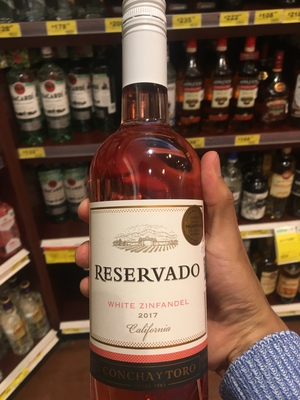reservado white zinfandel: (69, 16, 217, 400)
